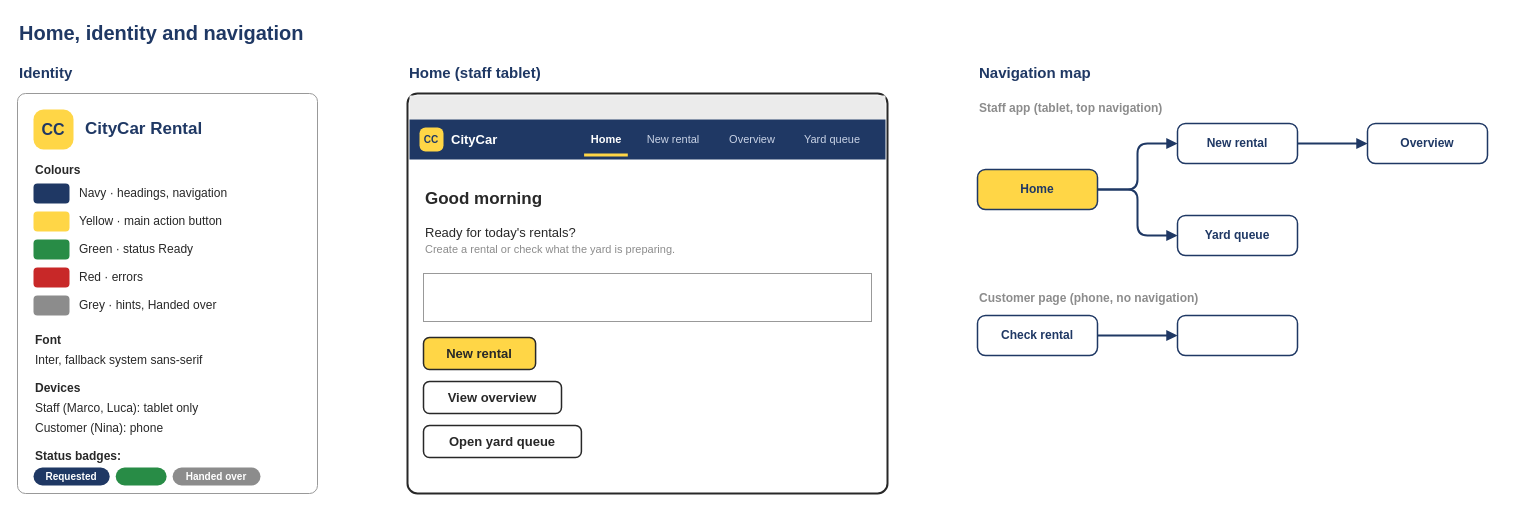
This 1515x511 diagram has some shape labels left out. The shapes that lost their labels are listed below. From the top down, each one's centre as x and y in pixels, then its label:
the point at 647,107: Tablet · Marco and Luca
the point at 647,297: Today · 24.09.2026 6 rentals · 2 ready at the front
the point at 1237,335: Rental status
the point at 140,476: Ready
